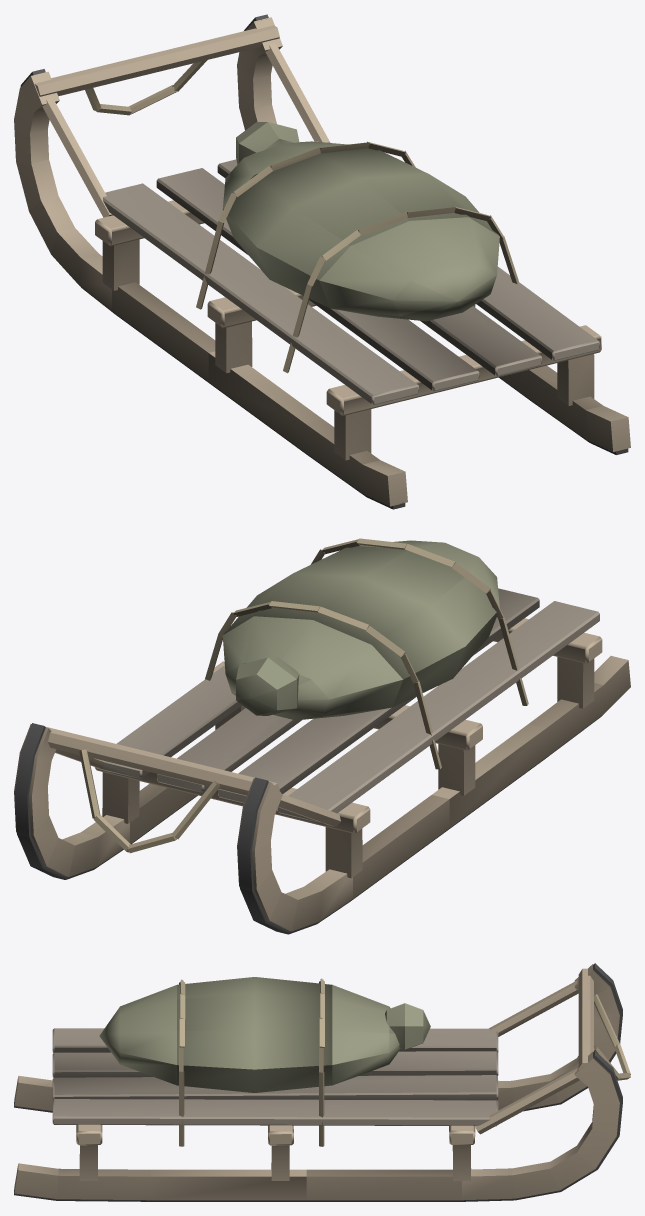
File: sledge.glb
3 renders of one model, top to bottom at view 1: azimuth 30°, elevation 25°; view 2: azimuth 150°, elevation 25°; view 3: azimuth 270°, elevation 25°, orthographic. The views are drawn at different scales.
Parts seen in each view (by area): view 1: static; view 2: static; view 3: static.
Part boxes in pixels (<box>): static: <box>14,14,630,509</box>; static: <box>14,538,630,934</box>; static: <box>14,963,630,1201</box>.
Size of the model in its own units: 0.4702 by 0.3472 by 1.19.
